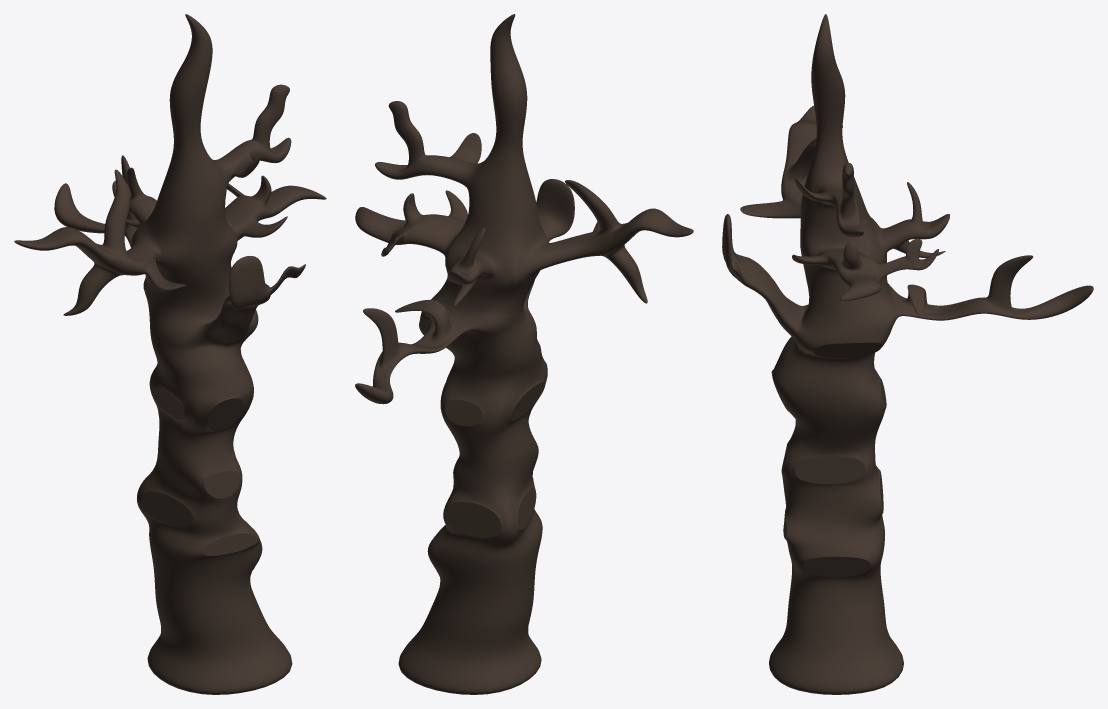
File: Big_Tree_Cut_Off_Branches.fbx
3 renders of one model, left to right at view 1: azimuth 30°, elevation 25°; view 2: azimuth 150°, elevation 25°; view 3: azimuth 270°, elevation 25°, orthographic. The views are drawn at different scales.
Parts seen in each view (by area): view 1: Big_Tree; view 2: Big_Tree; view 3: Big_Tree.
Part boxes in pixels (bbox=[...]): Big_Tree: bbox=[14, 14, 326, 694]; Big_Tree: bbox=[355, 14, 693, 694]; Big_Tree: bbox=[722, 14, 1093, 694].
Bounding box in the file's own units: 29.76 × 58.67 × 30.87.
